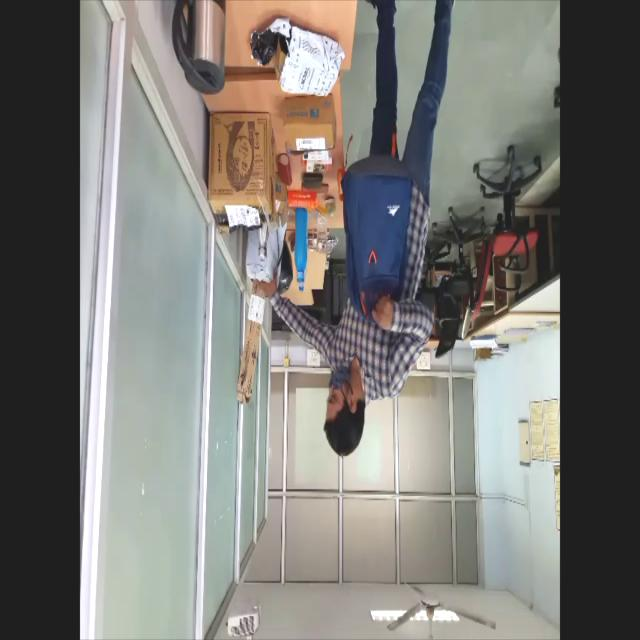shoplifting: (314, 0, 446, 476)
